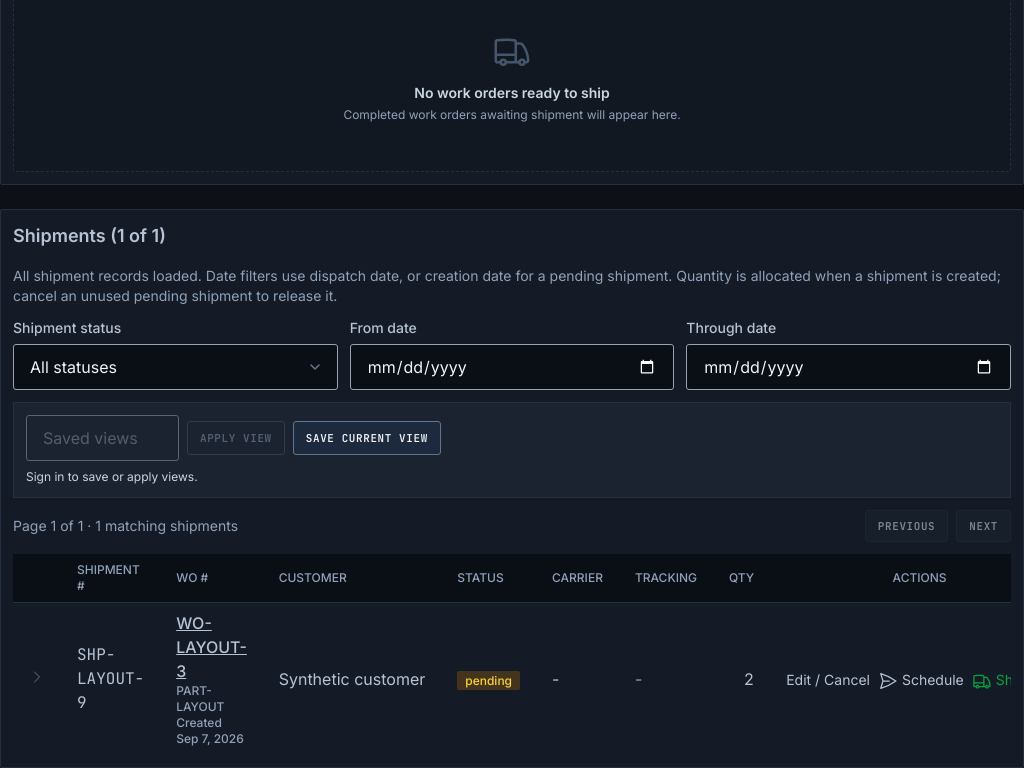
it: pending save cannot be closed; a failed update keeps quantity and an enabled close control
(page scrolled)
Click the button "Edit / Cancel".
click(828, 680)  # box top-left (786, 670), bottom-right (870, 690)
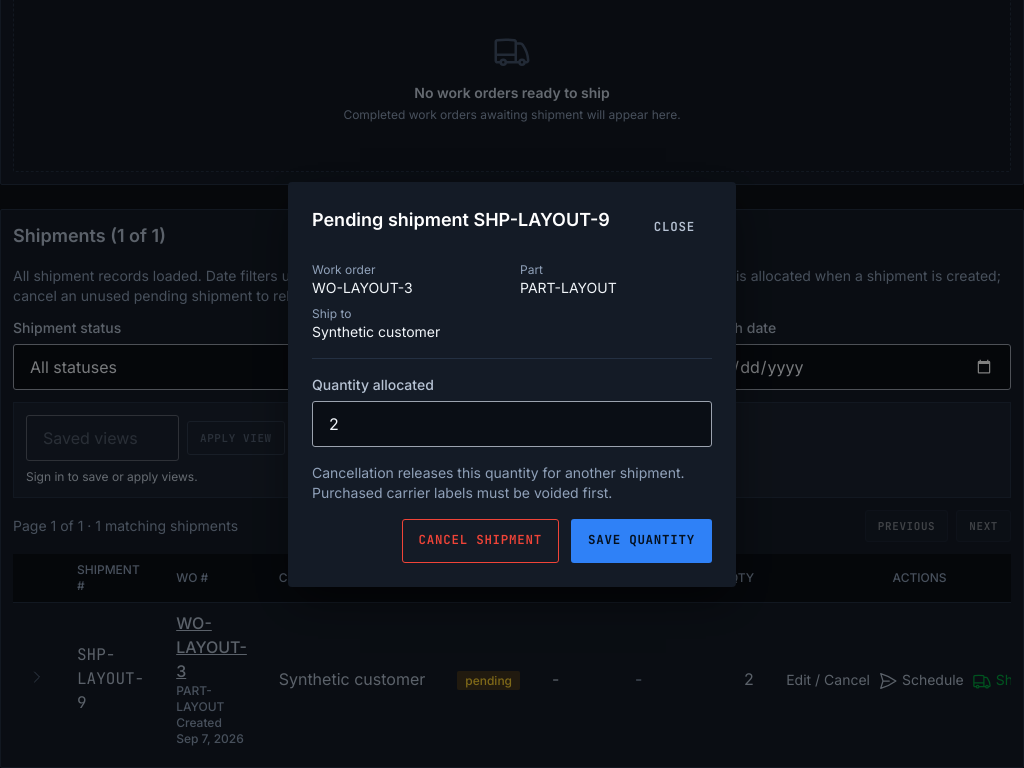
Replace the text in the number field labelled "Quantity allocated" with "3" at (512, 424), box top-left (312, 400), bottom-right (712, 446)
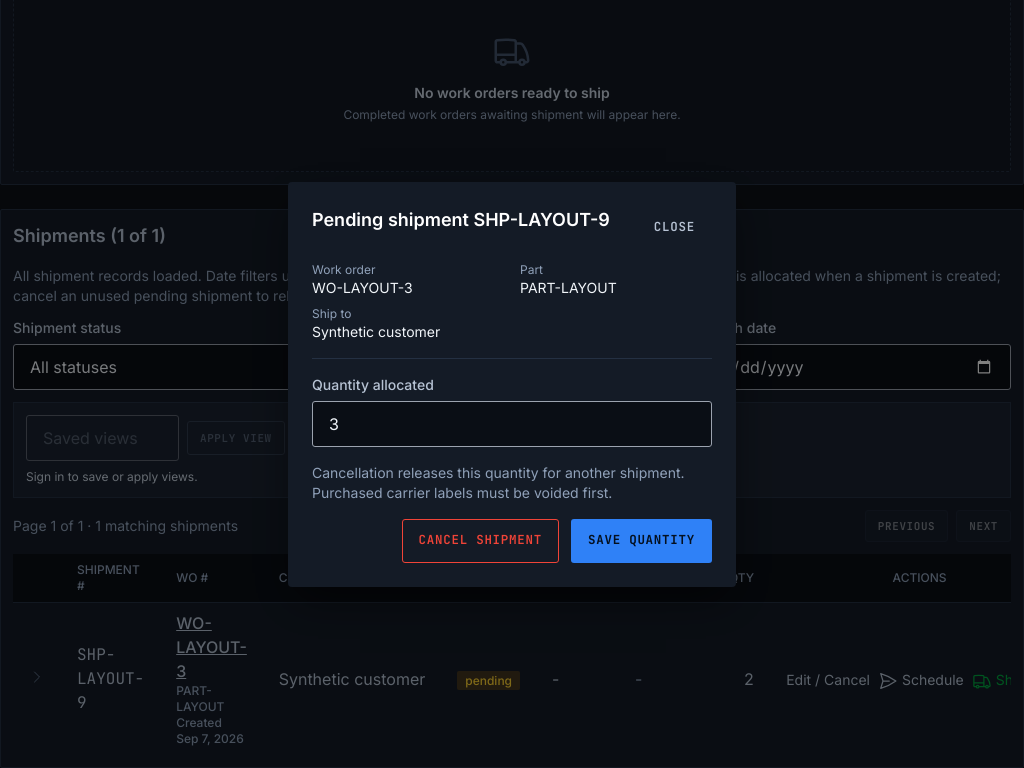
Click the button "Save quantity".
click(642, 540)  # box top-left (571, 518), bottom-right (712, 562)
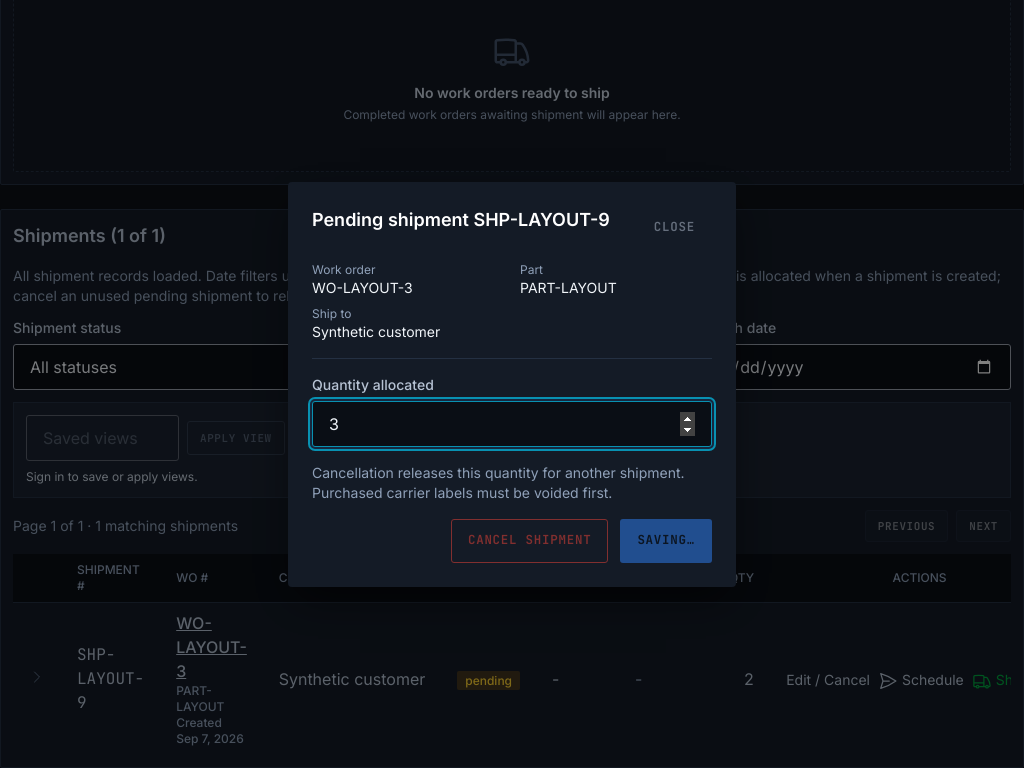
Result: the button with aria-label "Close pending shipment" is disabled at top-left (637, 206), bottom-right (712, 250)
Press Escape
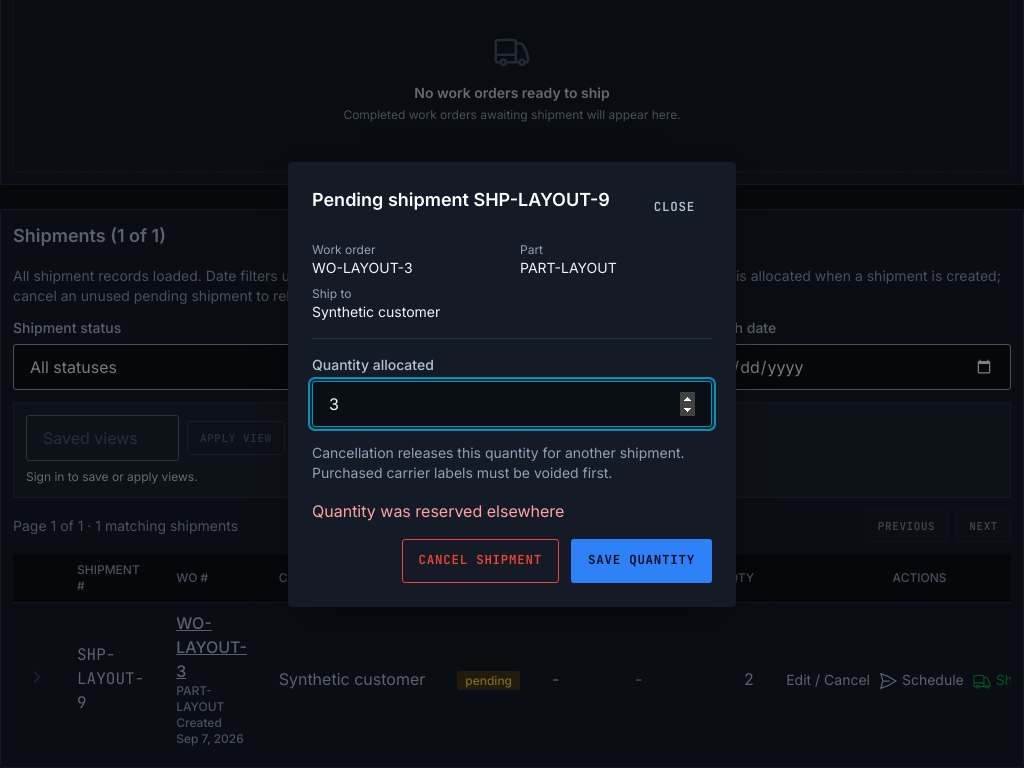
Result: the dialog is shown at top-left (288, 162), bottom-right (736, 606)
Result: the message reads "Quantity was reserved elsewhere" at top-left (312, 500), bottom-right (564, 520)
Result: the button with aria-label "Close pending shipment" is enabled at top-left (637, 186), bottom-right (712, 230)
